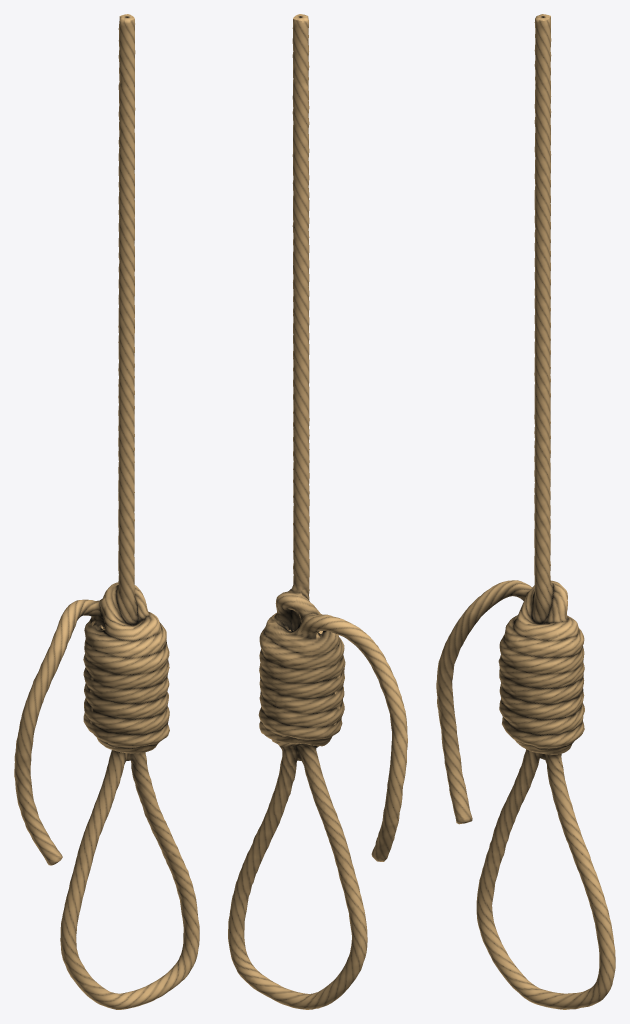
The model's file is uploads_files_741332_loop_GameReady.FBX.
The picture shows the model from 3 angles, left to right: view 1: azimuth 30°, elevation 25°; view 2: azimuth 150°, elevation 25°; view 3: azimuth 330°, elevation 25°; orthographic projection.
Visible parts, largest first — view 1: Loop; view 2: Loop; view 3: Loop.
Part boxes in pixels (left/top/right/bottom): Loop: left=14, top=14, right=199, bottom=1009; Loop: left=228, top=14, right=407, bottom=1009; Loop: left=436, top=14, right=615, bottom=1009.
Size of the model in its own units: 34.79 by 183 by 14.33.
1 material, 1 textured.
